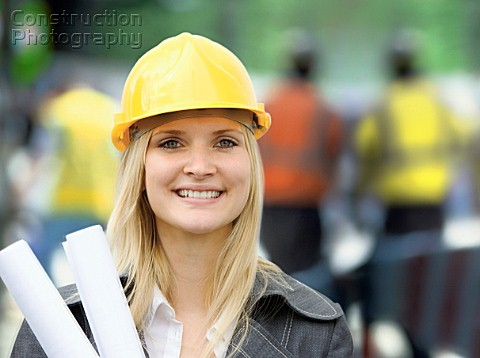epi: (64, 26, 333, 358)
